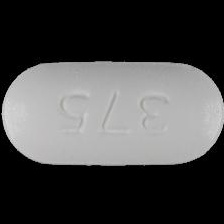53746-189: (0, 0, 224, 224)
